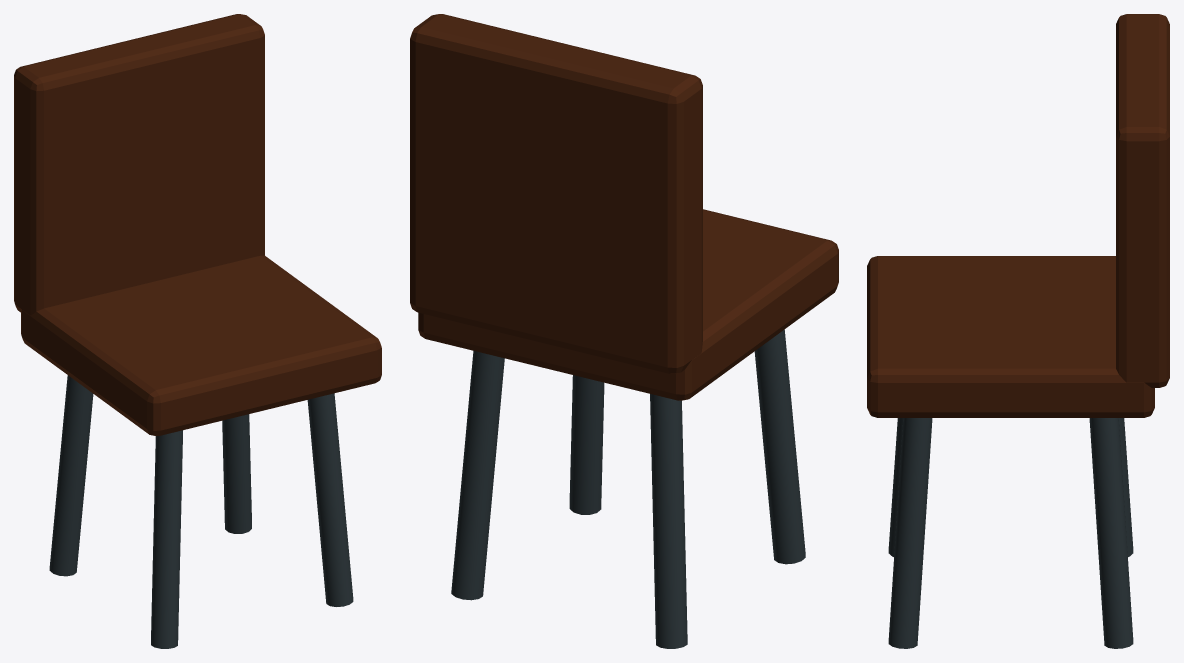
File: Chair.fbx
3 renders of one model, left to right at view 1: azimuth 30°, elevation 25°; view 2: azimuth 150°, elevation 25°; view 3: azimuth 270°, elevation 25°, orthographic. The views are drawn at different scales.
Visible parts, largest first — view 1: Chair; view 2: Chair; view 3: Chair.
Part boxes in pixels (x1,y1,x2,y2): Chair: [14, 14, 381, 648]; Chair: [410, 14, 838, 648]; Chair: [867, 14, 1169, 648].
Bounding box in the file's own units: 48 × 50.5 × 97.22.
